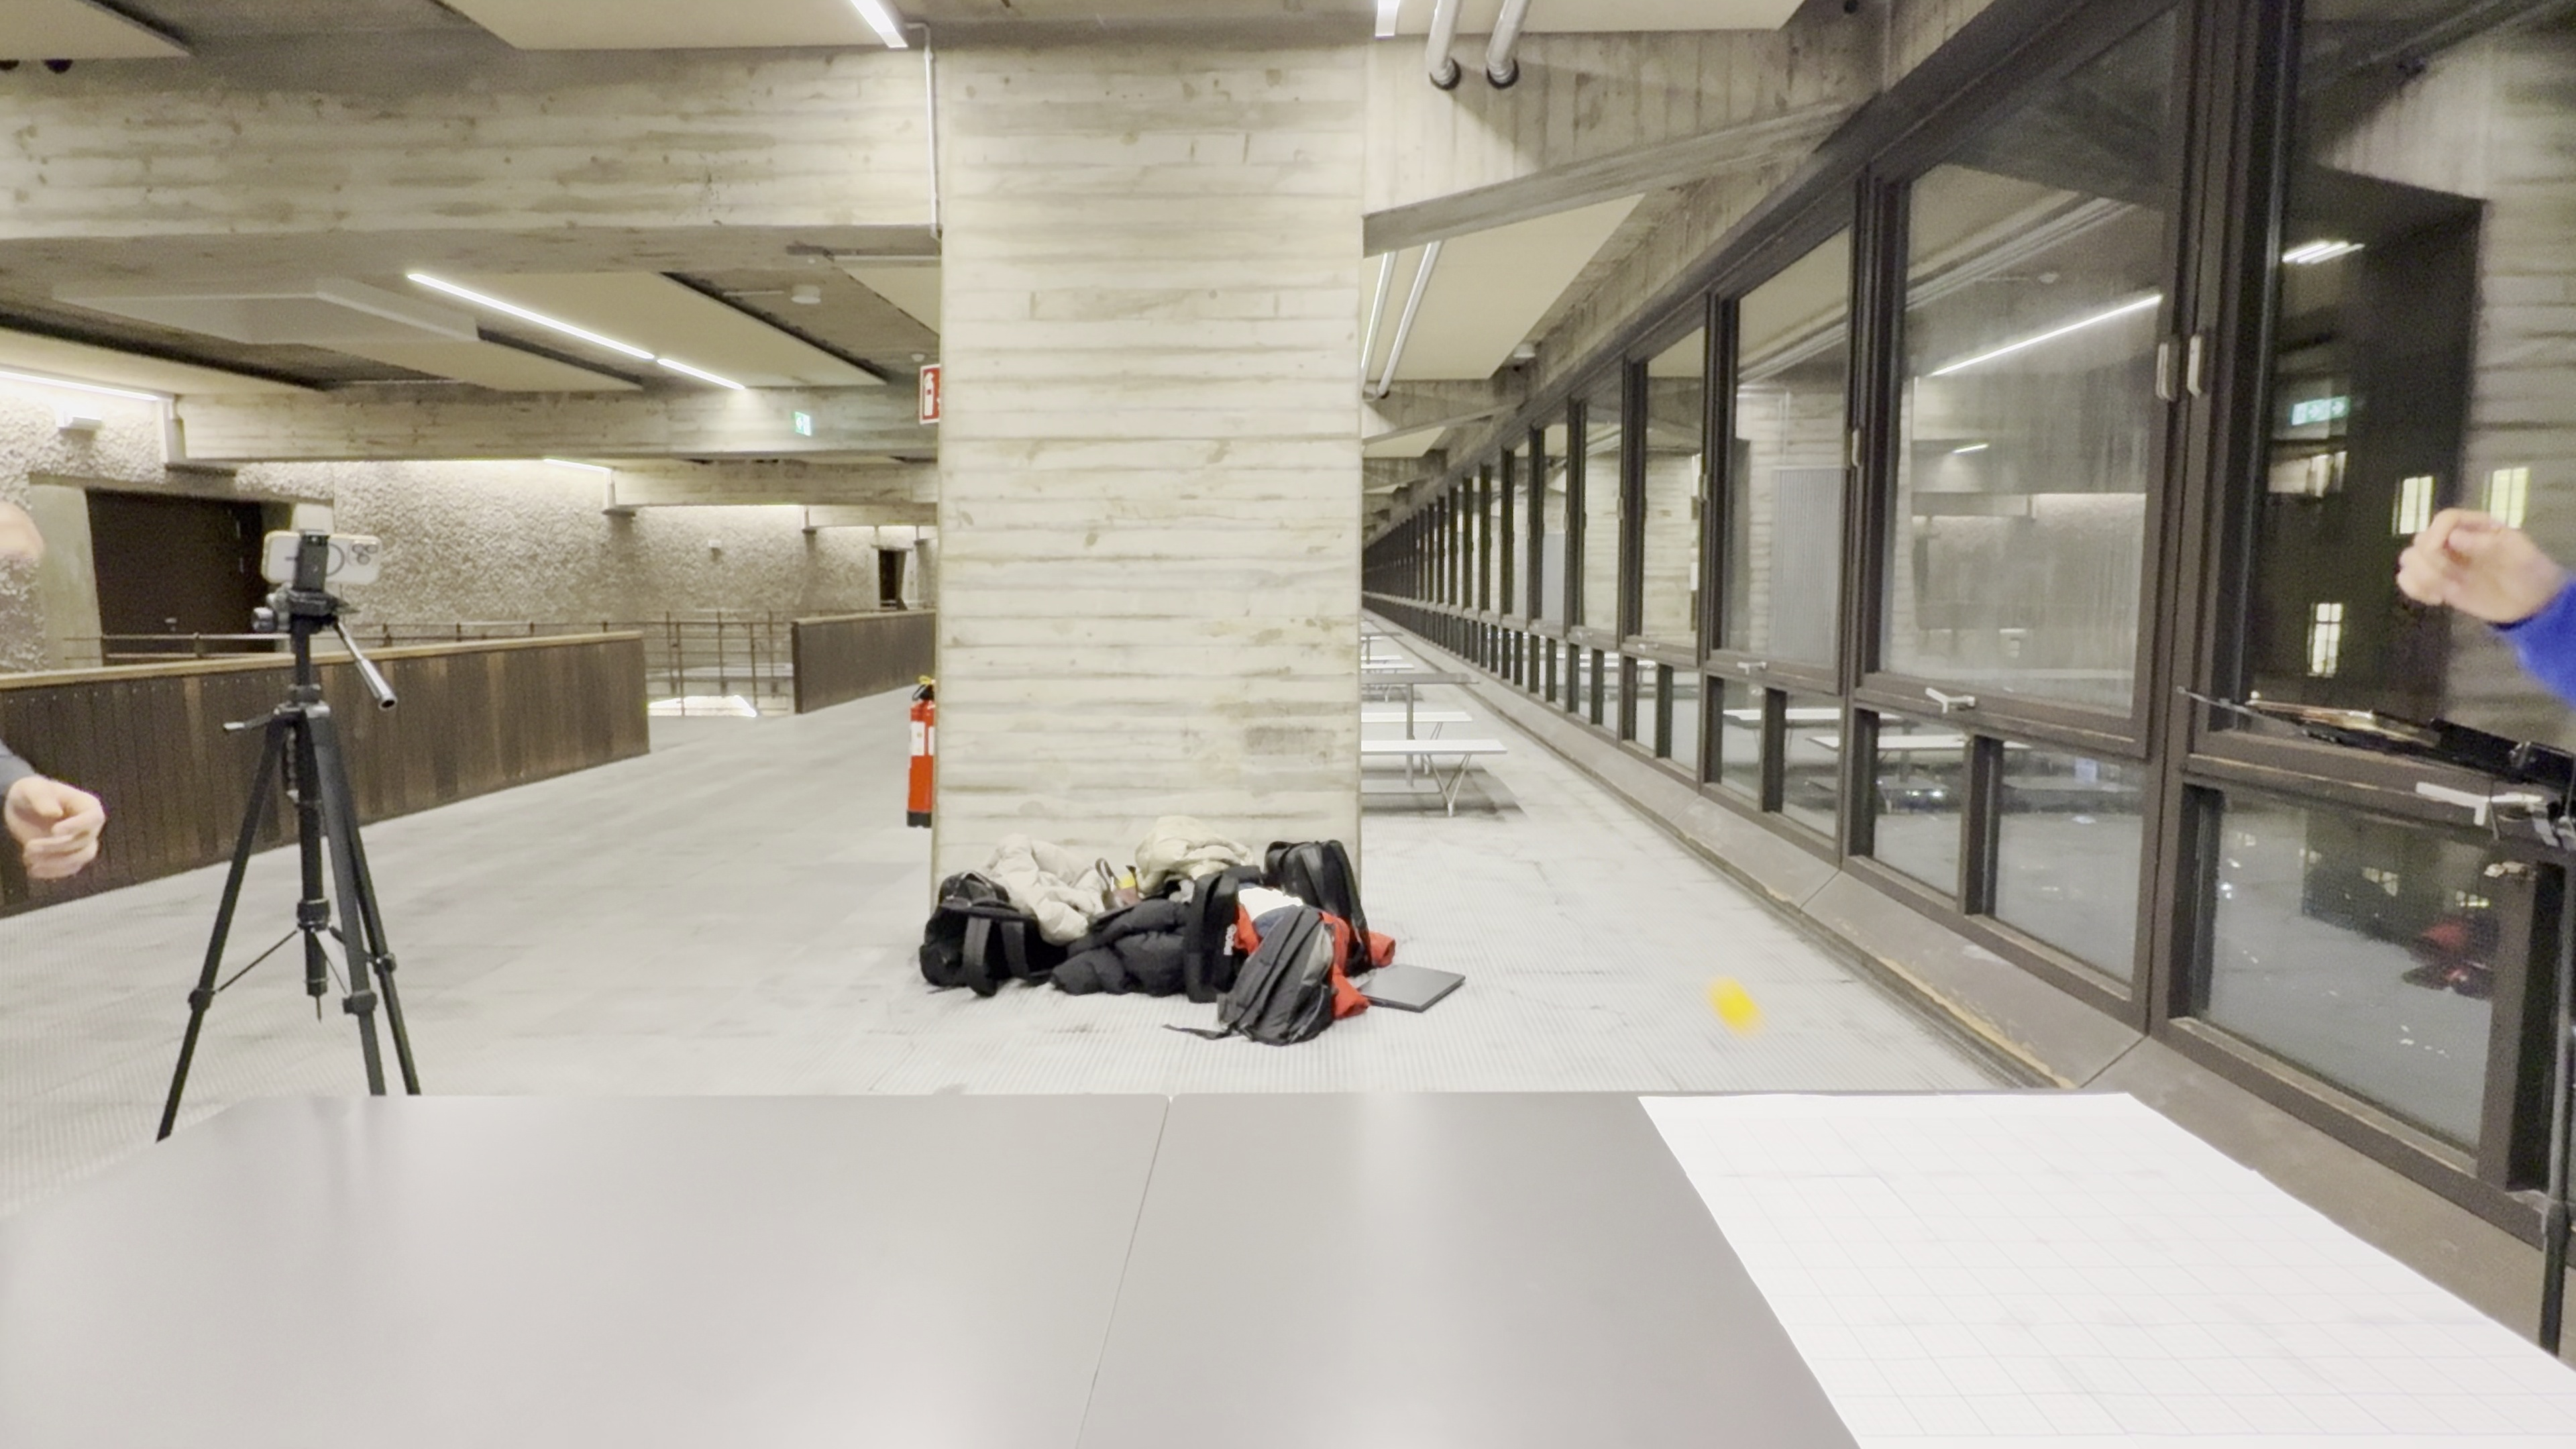ping-pong ball: (1706, 970, 1762, 1037)
